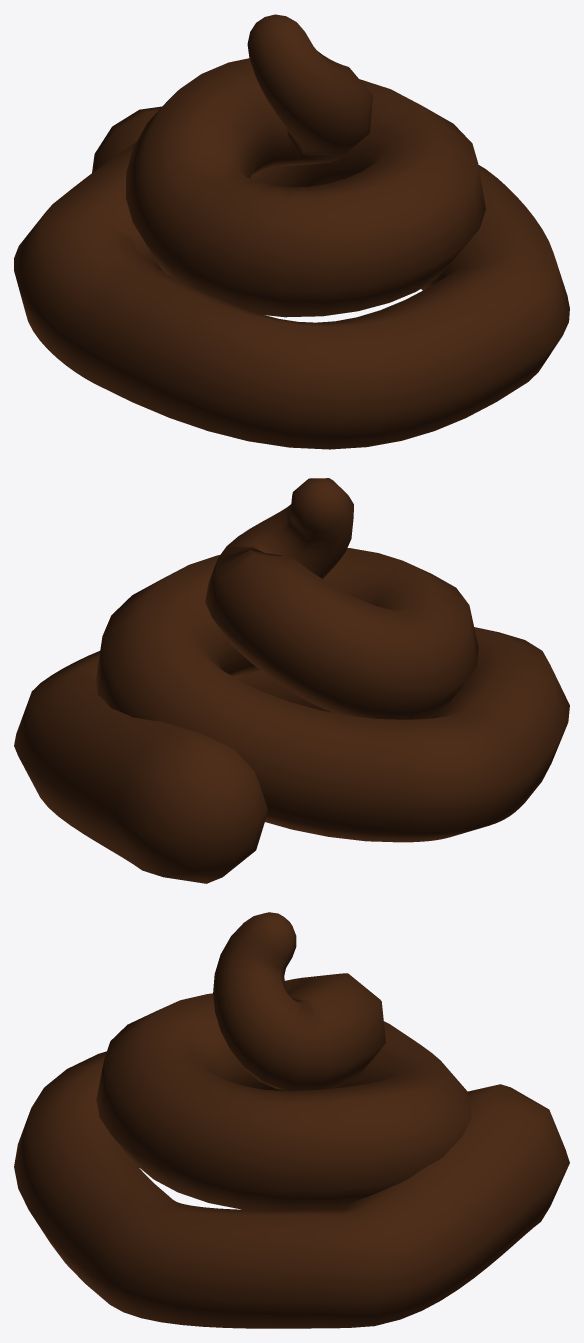
The model's file is Poop.fbx.
3 renders of one model, top to bottom at view 1: azimuth 30°, elevation 25°; view 2: azimuth 150°, elevation 25°; view 3: azimuth 270°, elevation 25°, orthographic. The views are drawn at different scales.
Visible parts, largest first — view 1: BézierCurve; view 2: BézierCurve; view 3: BézierCurve.
Part boxes in pixels (x1,y1,x2,y2): BézierCurve: [14, 14, 569, 449]; BézierCurve: [14, 478, 569, 883]; BézierCurve: [14, 912, 569, 1328].
Bounding box in the file's own units: 3.35 × 3.13 × 2.17.
